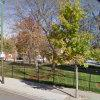Tree: (10, 5, 100, 61)
